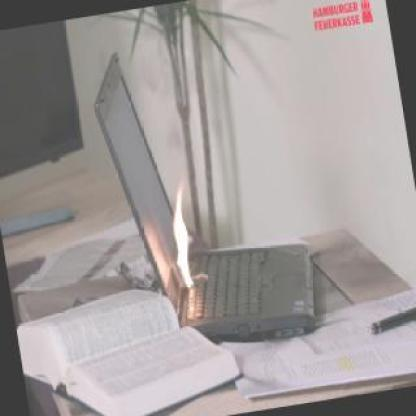Fire: (173, 179, 199, 293)
